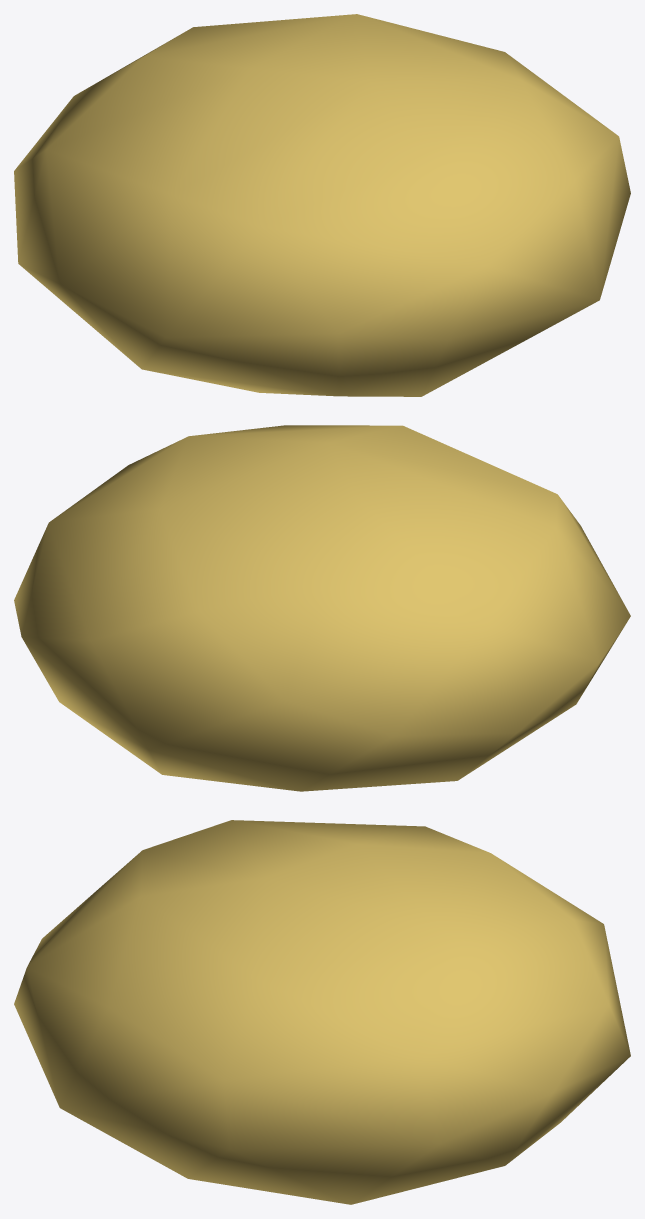
The model's file is oc_vang_sang.glb.
3 views of the same model, one above another, from view 1: azimuth 30°, elevation 25°; view 2: azimuth 150°, elevation 25°; view 3: azimuth 270°, elevation 25° (orthographic). The views are drawn at different scales.
Visible parts, largest first — view 1: oc_vang_sang; view 2: oc_vang_sang; view 3: oc_vang_sang.
Boxes of the visible parts, <box> form: oc_vang_sang: <box>14,14,630,396</box>; oc_vang_sang: <box>14,425,630,791</box>; oc_vang_sang: <box>14,820,630,1204</box>.
Bounding box in the file's own units: 0.0899 × 0.0449 × 0.0906.
